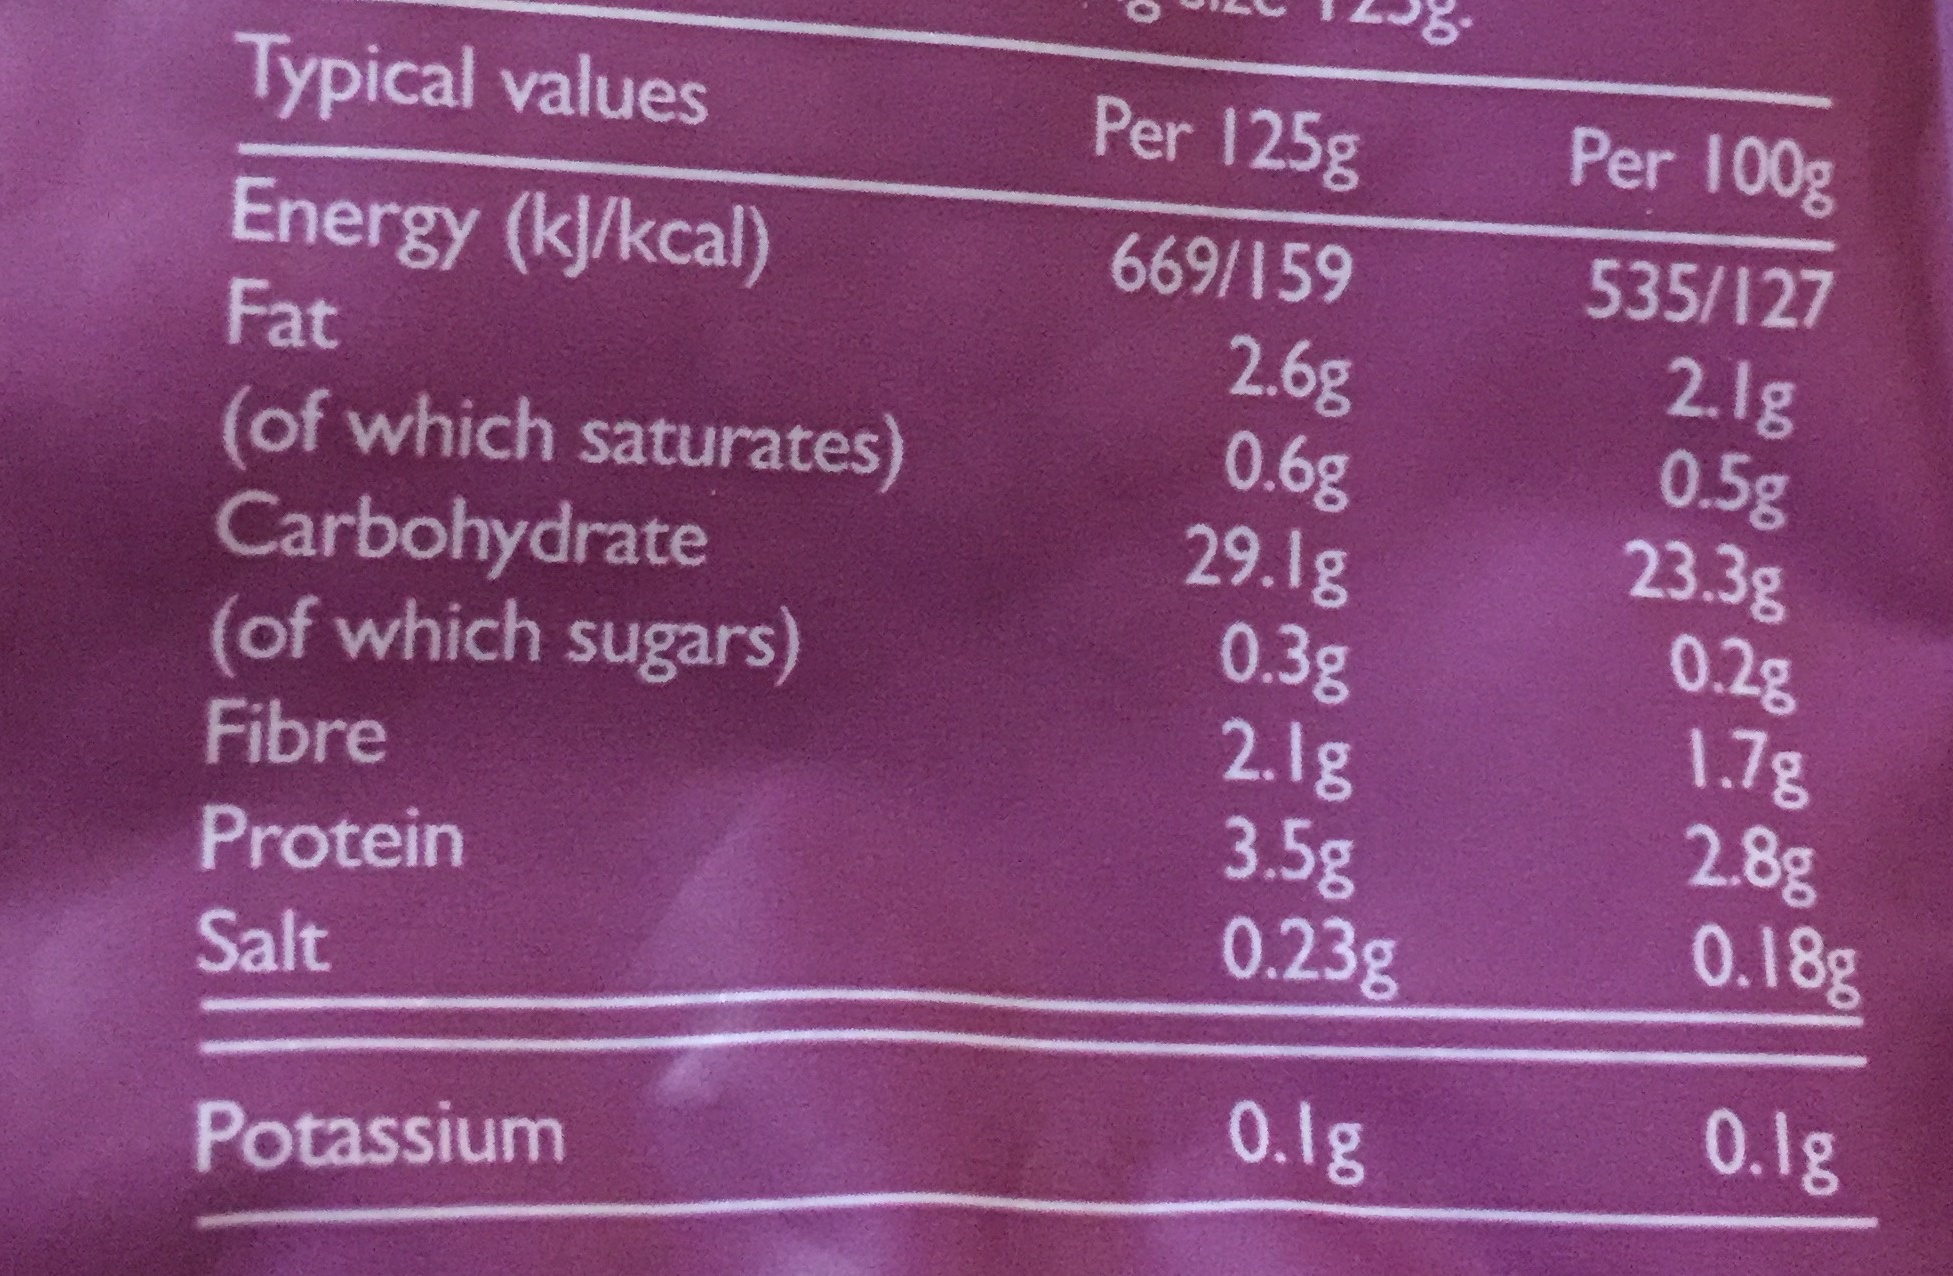column: (194, 28, 910, 1176), (1090, 90, 1401, 1196), (1567, 122, 1859, 1198)
table: (184, 9, 1883, 1257)
